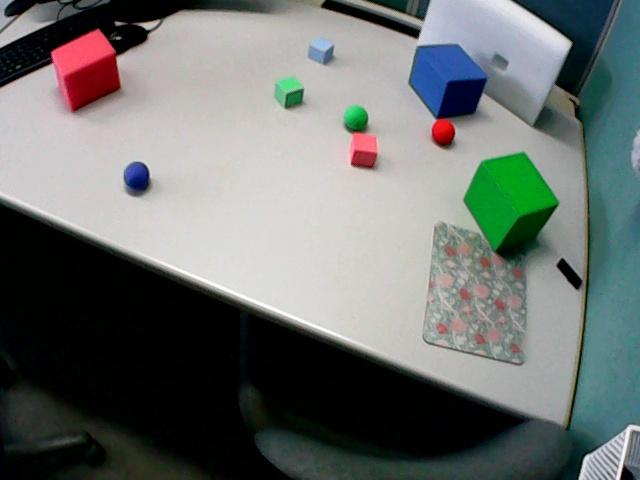blue_block: (409, 44, 487, 117), (308, 38, 333, 63)
red_block: (51, 30, 121, 111), (350, 133, 377, 167)
